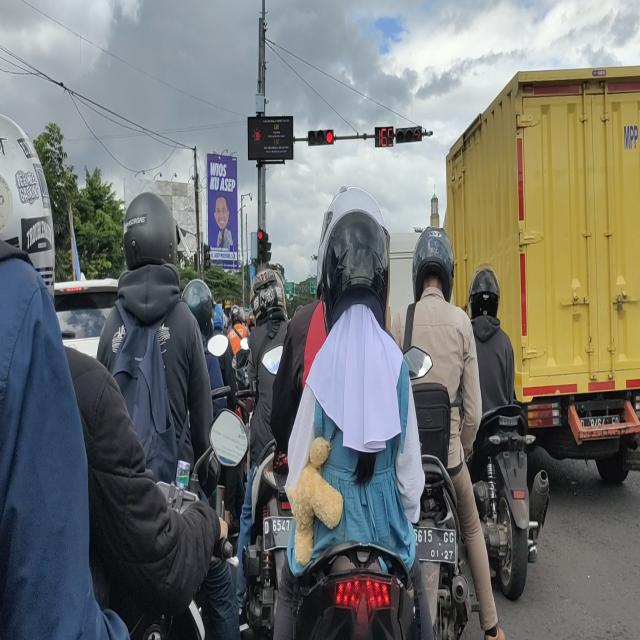helmet: (0, 113, 55, 298), (323, 220, 390, 320), (122, 190, 180, 272), (412, 233, 453, 296), (252, 269, 288, 328), (466, 268, 501, 324), (181, 280, 214, 331), (230, 307, 246, 327)
